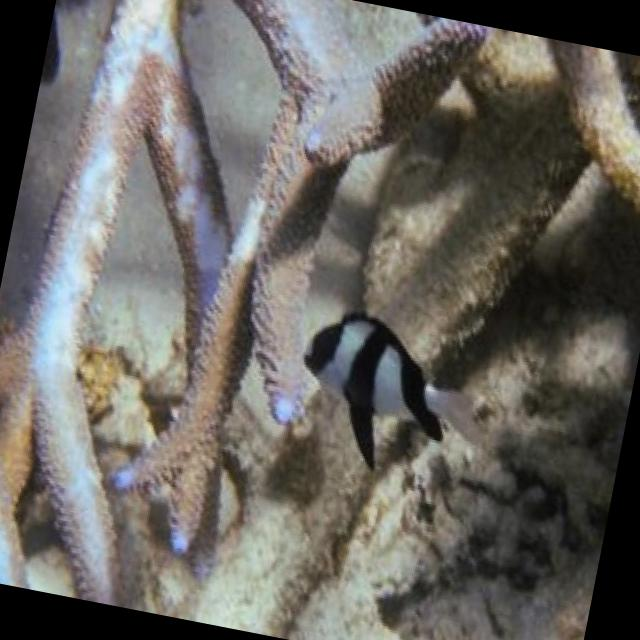Three_striped DasmselFish: (286, 304, 492, 489)
